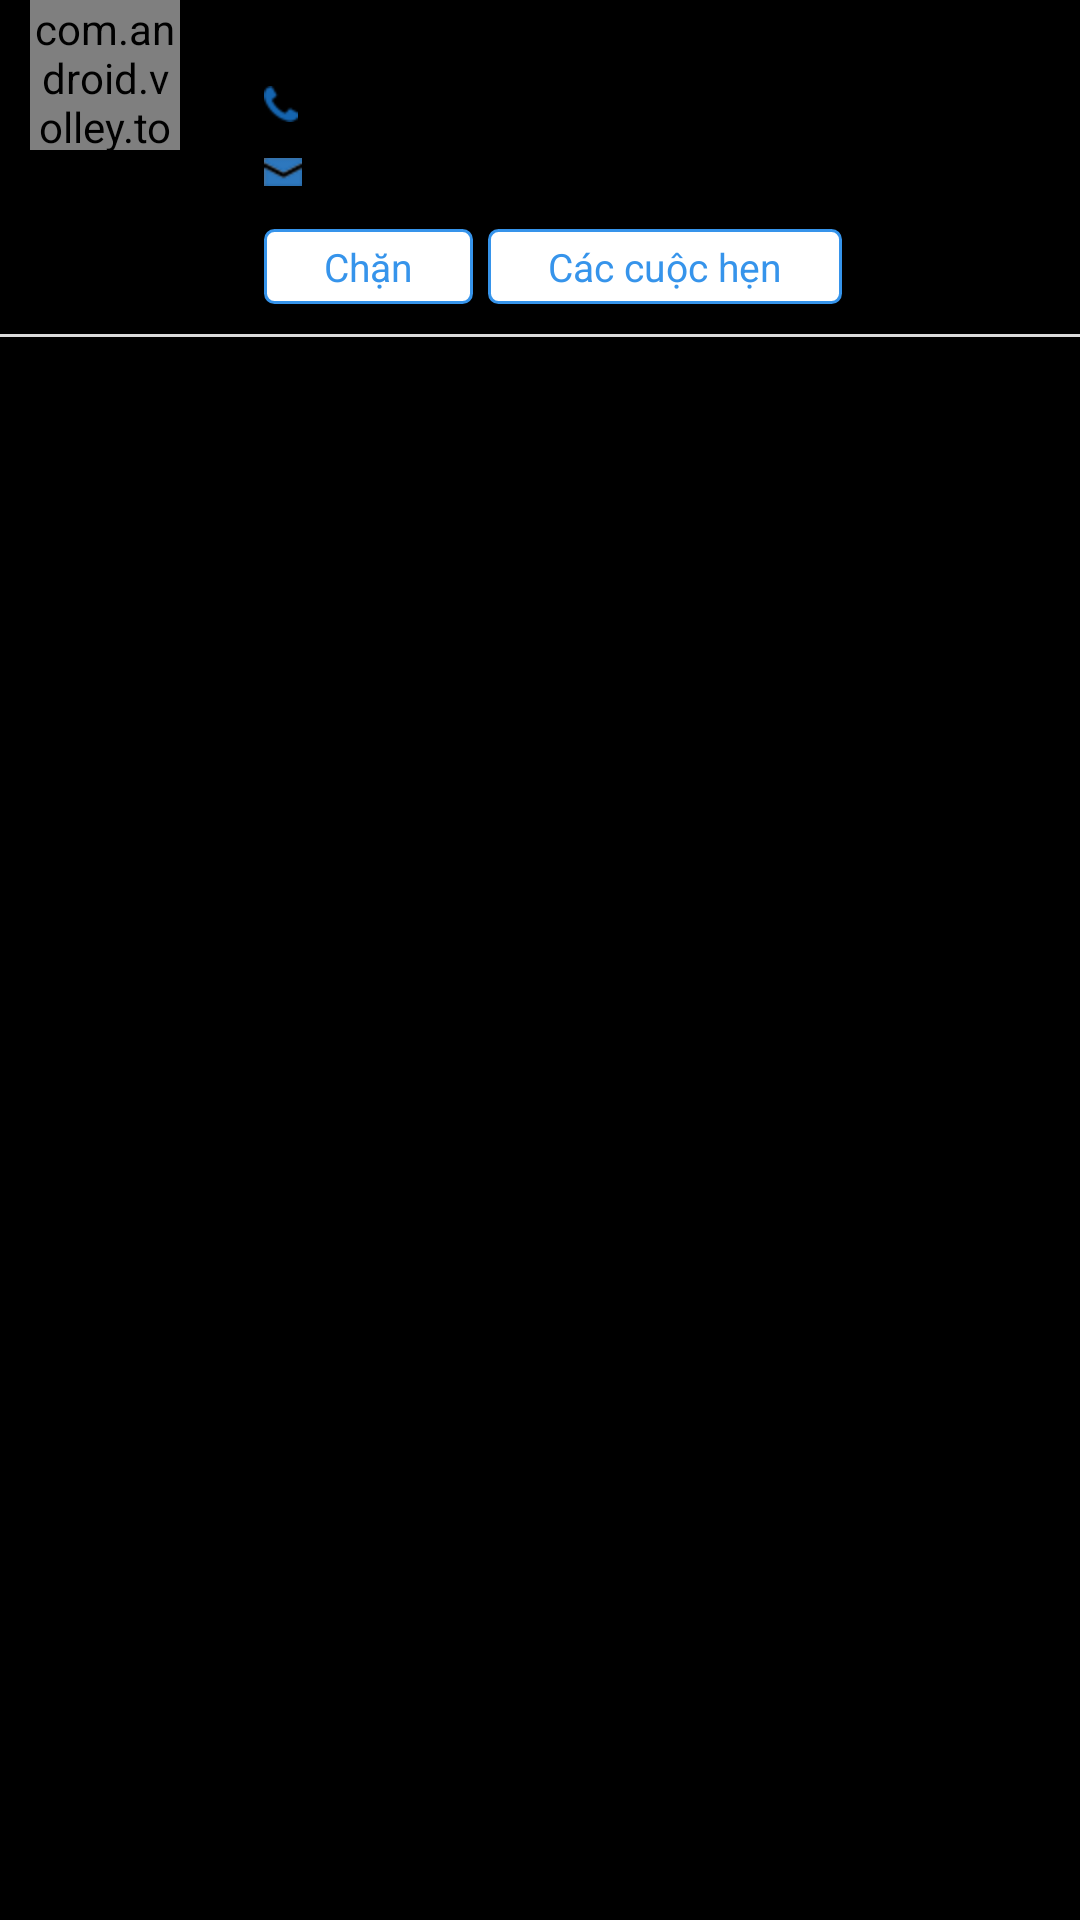

Locate icon controls on the screen. Image size 1080x1920, boxes as (x1,y1,x2,y2).
email: (264,158,302,186)
phone: (264,86,298,122)
